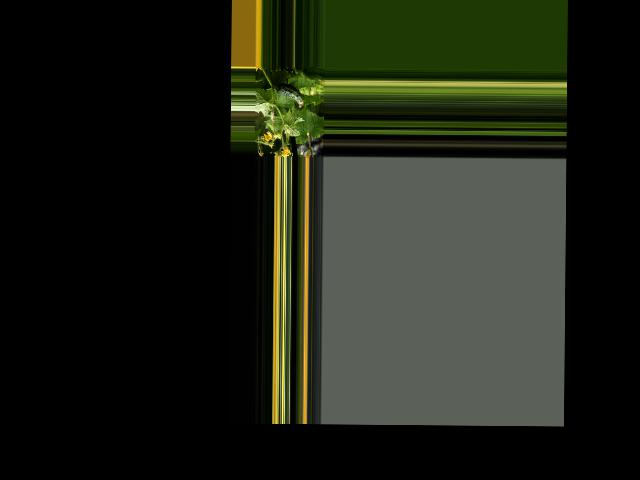cucumber: (275, 83, 304, 108)
